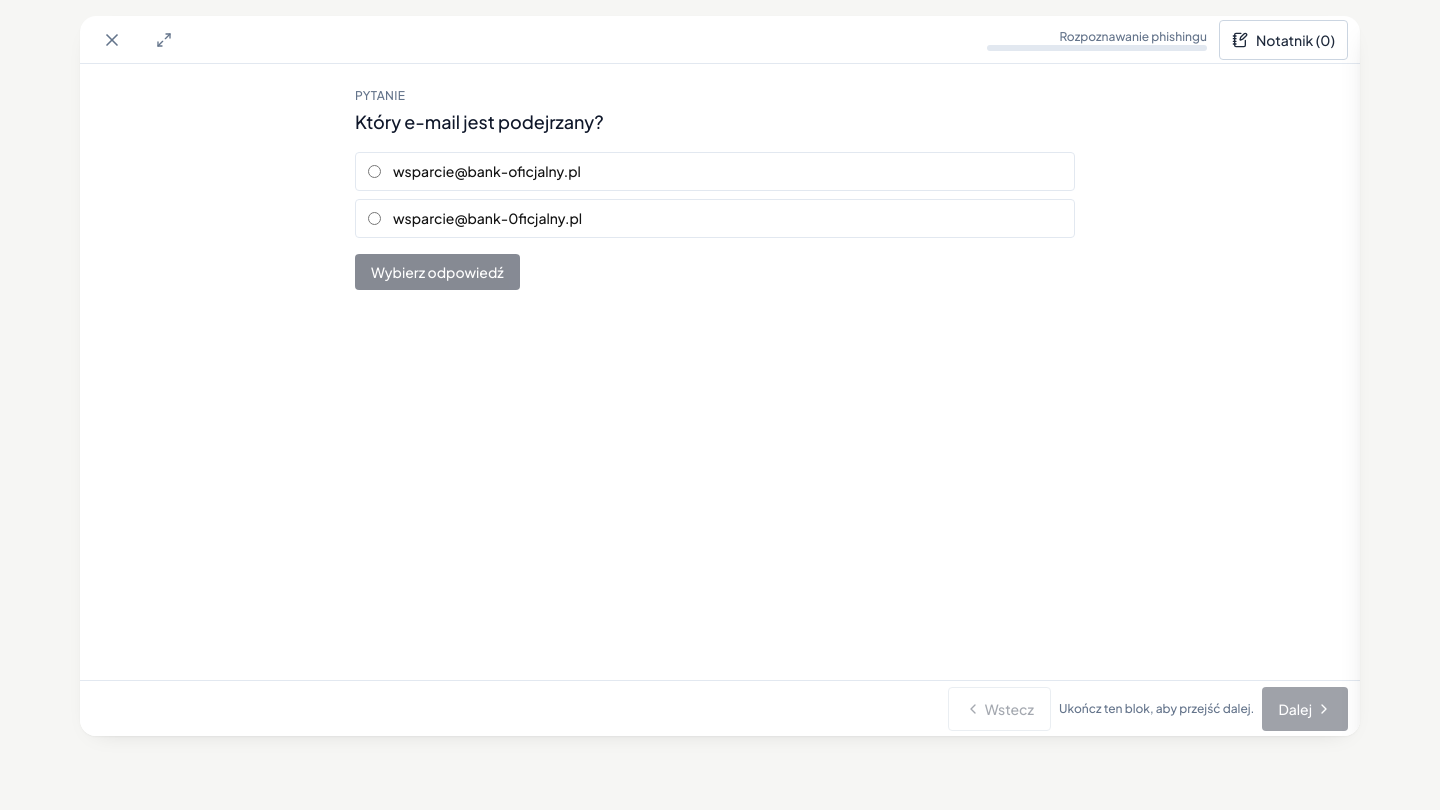
Test: CoursePlayer - przepływ kursu jednoblokowego › pokazuje kartę nagrody (RewardCard, inline na SummaryScreen) z danymi z odpowiedzi /progress, gdy kurs kończy się z gamification (po ekranie feedbacku bloku oce
Step 1. Click the text "wsparcie@bank-0ficjalny.pl" → point(488, 218), box [393,208,582,229]
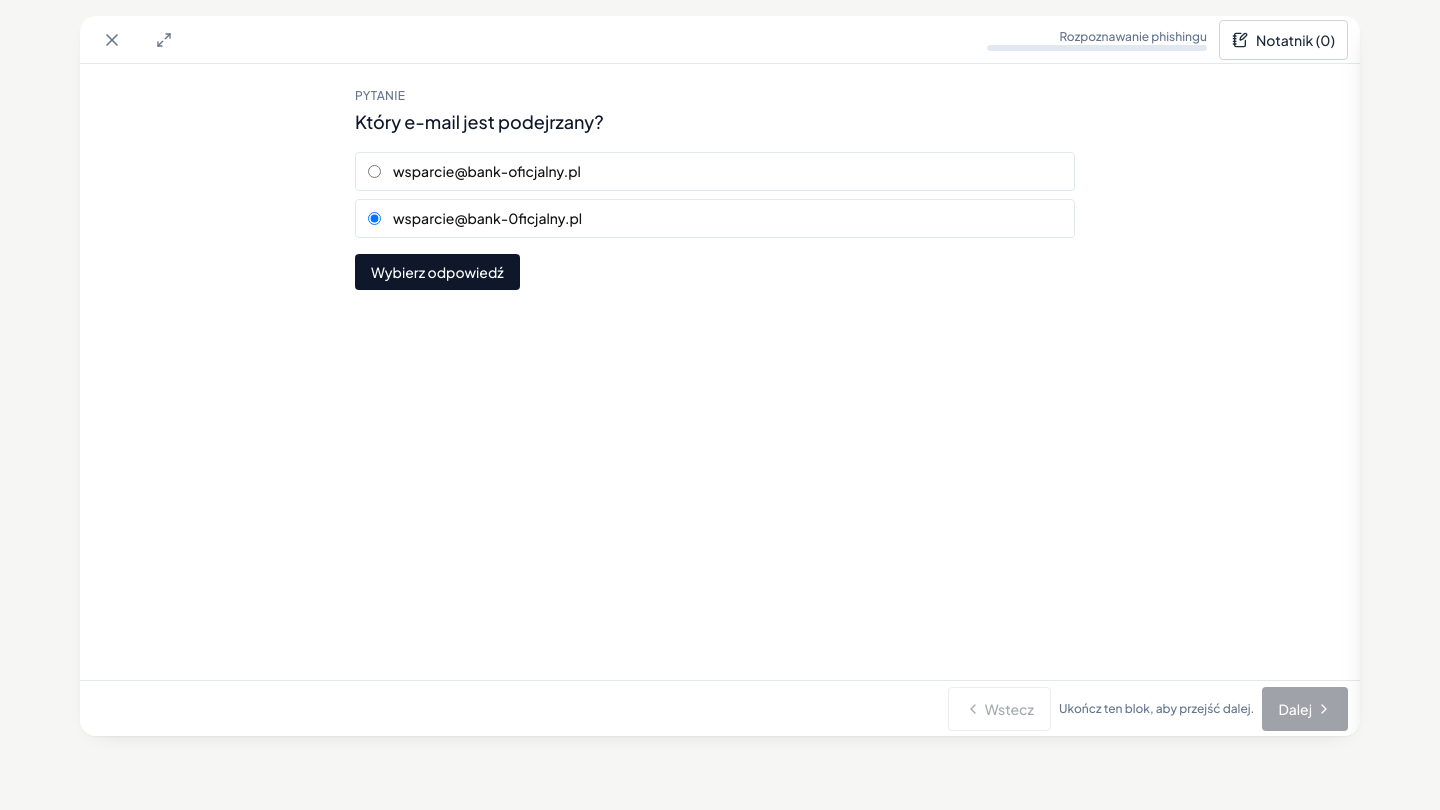
Step 2. Click the button "Wybierz odpowiedź" → point(437, 272), box [355,254,520,290]
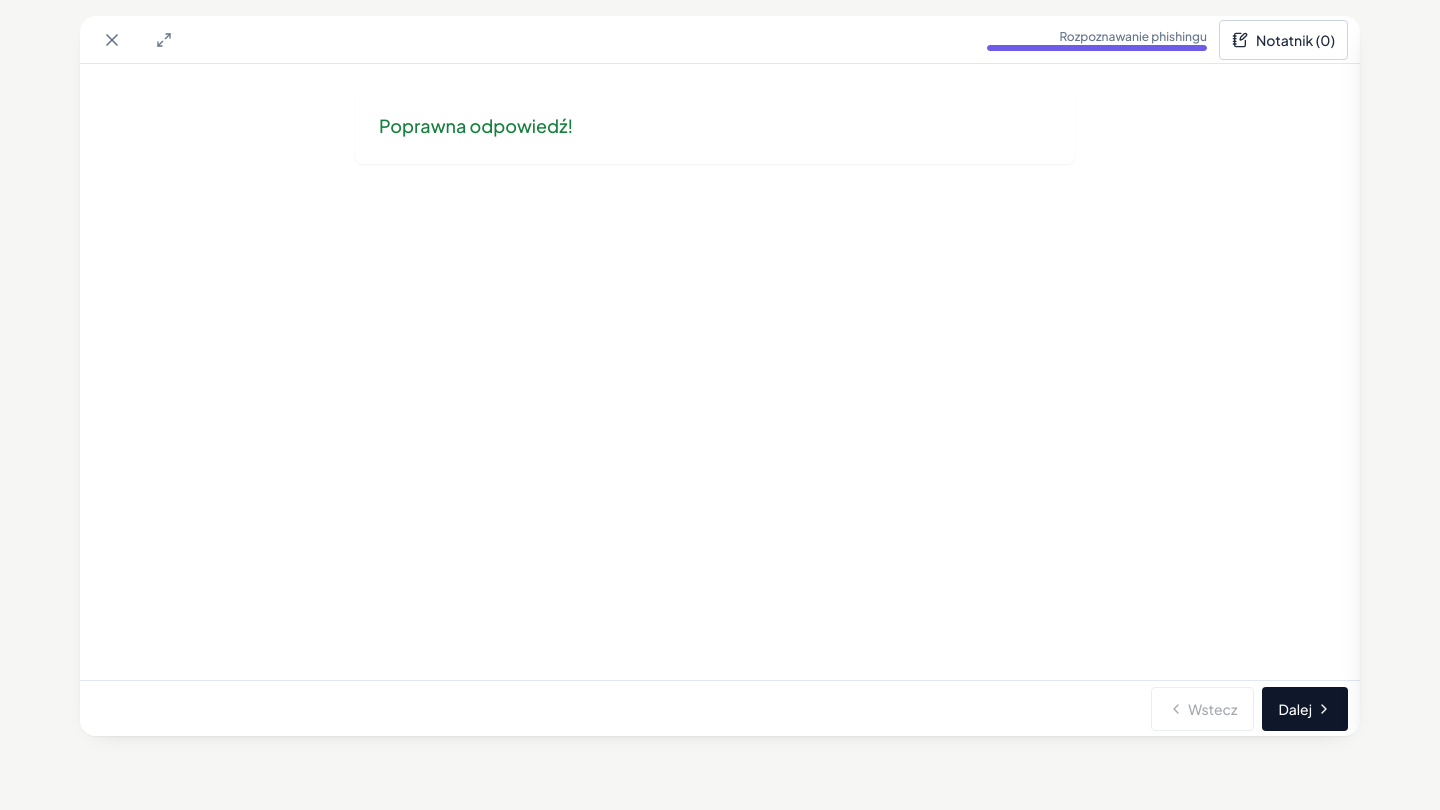
Check: the text "Poprawna odpowiedź!" is shown, box [379,114,573,137]
Step 3. Click the button "Dalej" → point(1305, 708), box [1262,686,1348,730]
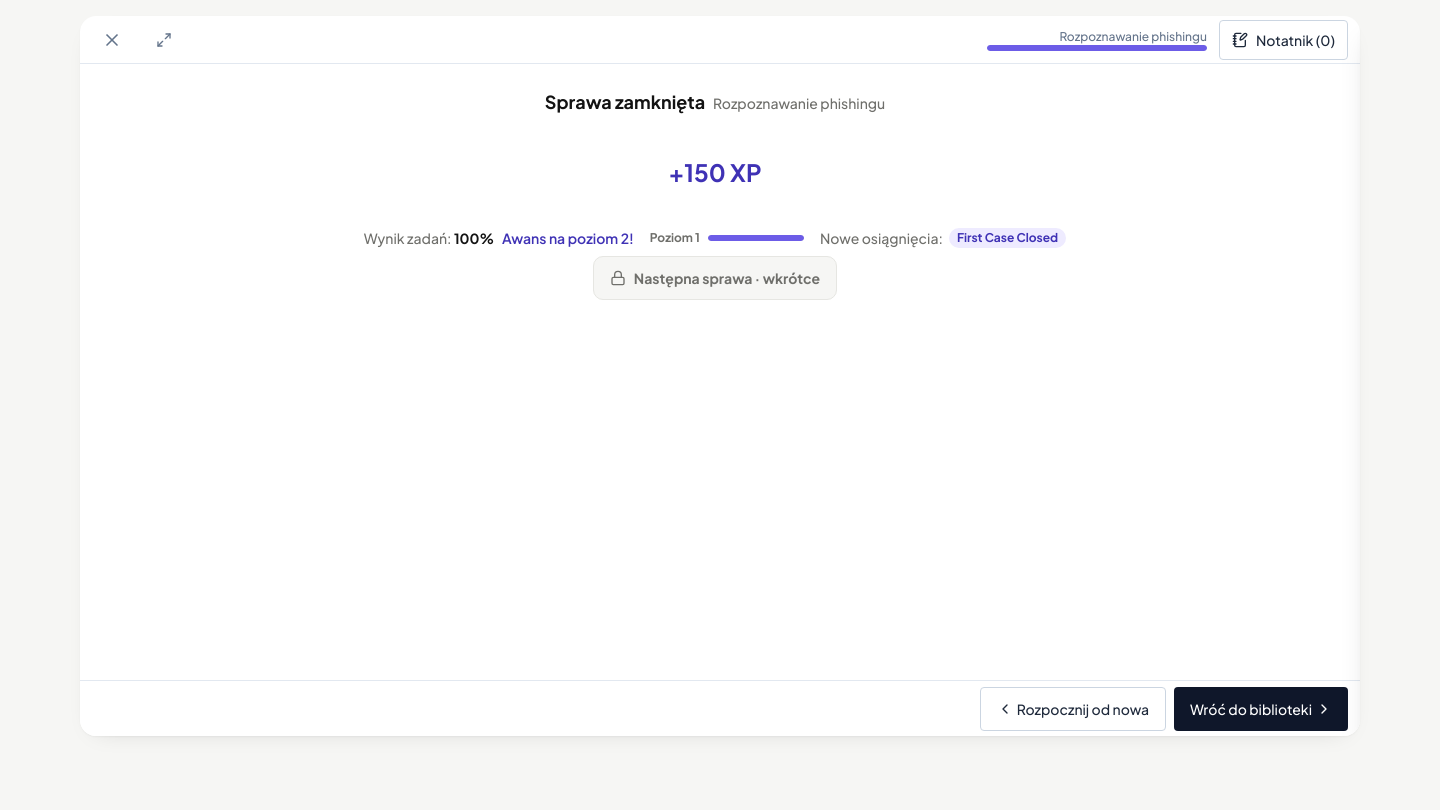
Check: the heading "Sprawa zamknięta" is shown, box [545,88,705,116]
Check: the text "+150 XP" is shown, box [668,156,762,188]
Check: the text "Awans na poziom 2!" is shown, box [502,229,634,247]
